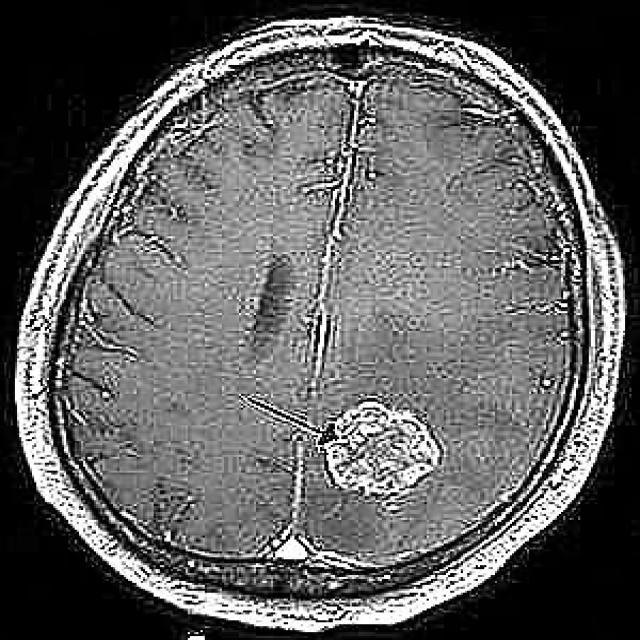Tumor-Cell: (308, 396, 440, 498)
